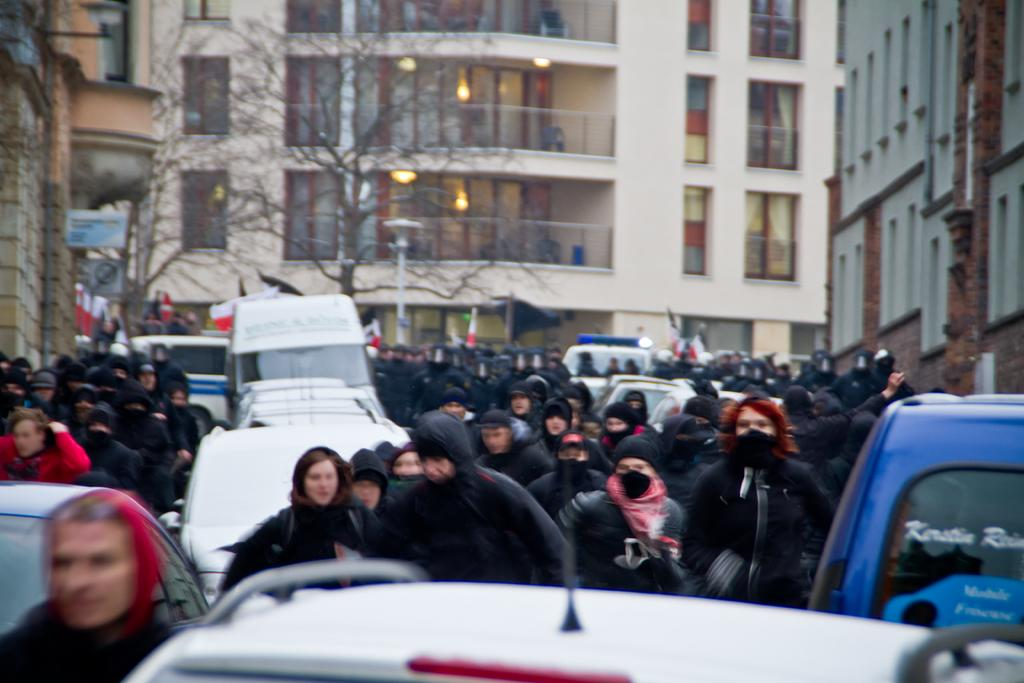Sem Máscara: (46, 520, 130, 623), (300, 457, 335, 504), (736, 406, 776, 436), (10, 415, 38, 456), (349, 476, 380, 508), (614, 455, 657, 477), (420, 452, 450, 481), (482, 424, 508, 453), (389, 452, 423, 473), (555, 443, 585, 459), (509, 391, 528, 415), (544, 413, 565, 434), (441, 398, 461, 419), (604, 413, 624, 432), (0, 378, 21, 395), (137, 368, 153, 389), (170, 387, 187, 406), (87, 417, 107, 433), (585, 419, 599, 438), (717, 403, 731, 422), (35, 384, 52, 399), (73, 395, 92, 407), (109, 366, 125, 380), (625, 397, 638, 410)
